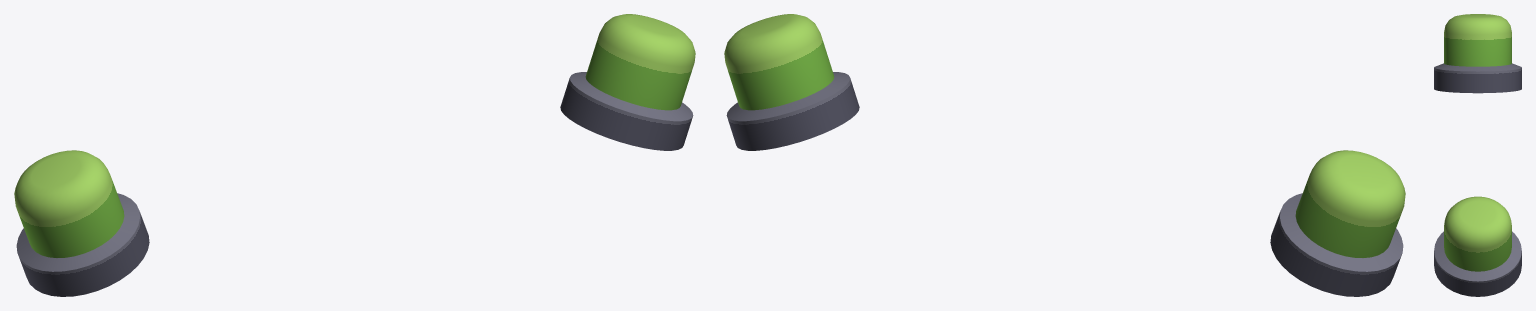
The model's file is luzBien.fbx.
3 views of the same model, side by side, from view 1: azimuth 30°, elevation 25°; view 2: azimuth 150°, elevation 25°; view 3: azimuth 270°, elevation 25° (orthographic). The views are drawn at different scales.
Parts seen in each view (by area): view 1: luzBien; view 2: luzBien; view 3: luzBien.
Part boxes in pixels (x1,y1,x2,y2): luzBien: [14, 14, 695, 296]; luzBien: [724, 14, 1405, 296]; luzBien: [1434, 14, 1521, 296].
Size of the model in its own units: 306 by 53.44 by 51.35.
